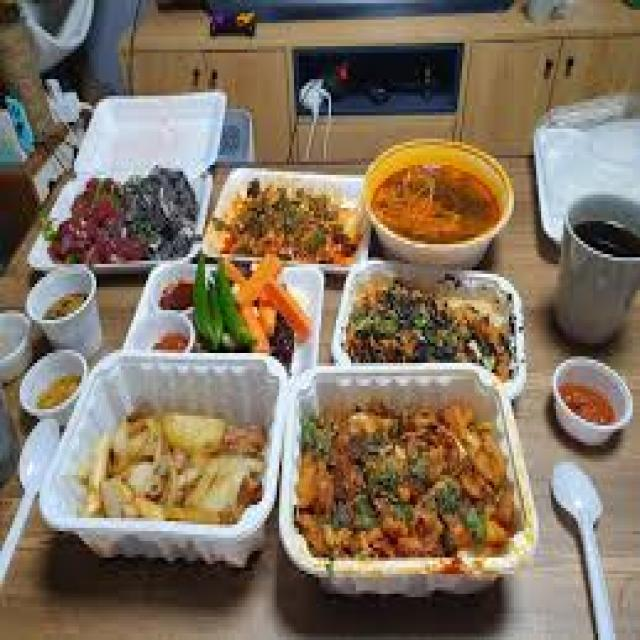plastic-bowl: (270, 363, 553, 593), (31, 350, 293, 569), (325, 260, 525, 405), (321, 262, 526, 400), (118, 256, 331, 369), (362, 133, 528, 277), (193, 158, 379, 272), (23, 266, 117, 369), (550, 352, 638, 453), (22, 347, 94, 431), (0, 303, 40, 400), (148, 258, 202, 321), (128, 306, 202, 351)
plastic-spoon: (555, 447, 621, 640), (1, 410, 65, 581)
styrofoam: (15, 81, 235, 276)
